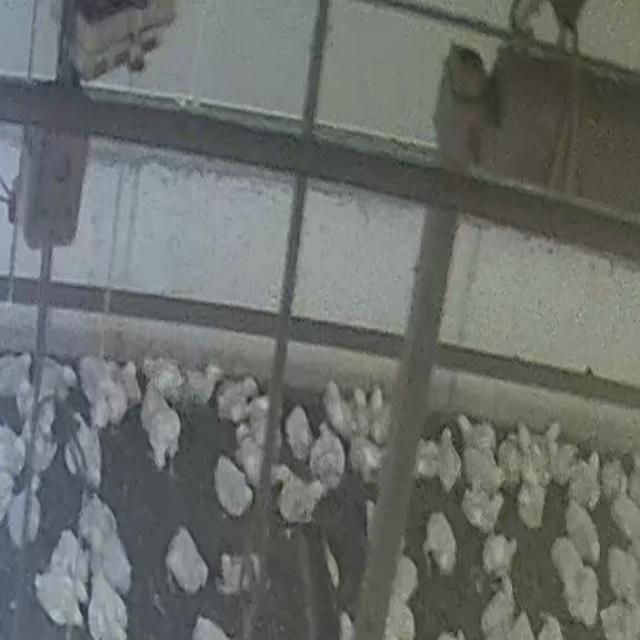chicken: (550, 537, 600, 626), (89, 508, 134, 594), (33, 564, 86, 629), (162, 524, 210, 595), (143, 385, 181, 471), (273, 466, 327, 526), (86, 568, 129, 634), (211, 453, 253, 519), (46, 525, 86, 593), (26, 400, 61, 477), (459, 443, 502, 504), (308, 423, 348, 488), (34, 356, 77, 412), (422, 509, 459, 574), (214, 374, 261, 425), (564, 499, 600, 565), (480, 582, 522, 636), (141, 355, 187, 404), (605, 547, 640, 611), (459, 486, 503, 536), (77, 494, 115, 550), (434, 426, 465, 494), (608, 486, 640, 550), (234, 431, 267, 493), (563, 452, 598, 510), (71, 418, 101, 484), (454, 412, 496, 458), (481, 530, 518, 582), (348, 431, 384, 483), (183, 363, 223, 409), (390, 552, 421, 611), (6, 486, 35, 546), (321, 378, 350, 437), (284, 404, 314, 460), (100, 369, 130, 423), (547, 431, 577, 485), (0, 352, 34, 399), (0, 422, 27, 481), (516, 482, 547, 531), (215, 555, 247, 596), (370, 388, 390, 443), (416, 439, 442, 479), (357, 386, 371, 433)
